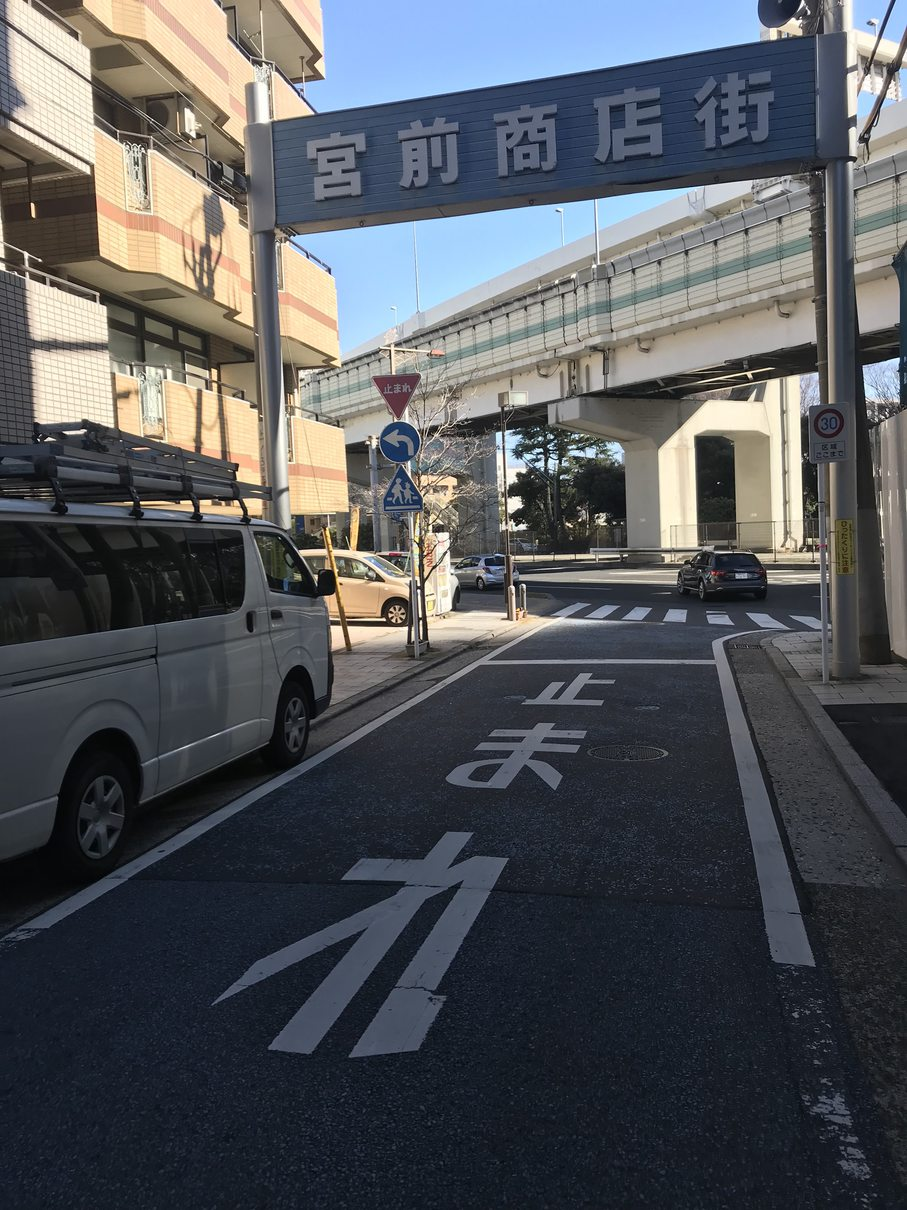stop_sign: (370, 373, 421, 420)
